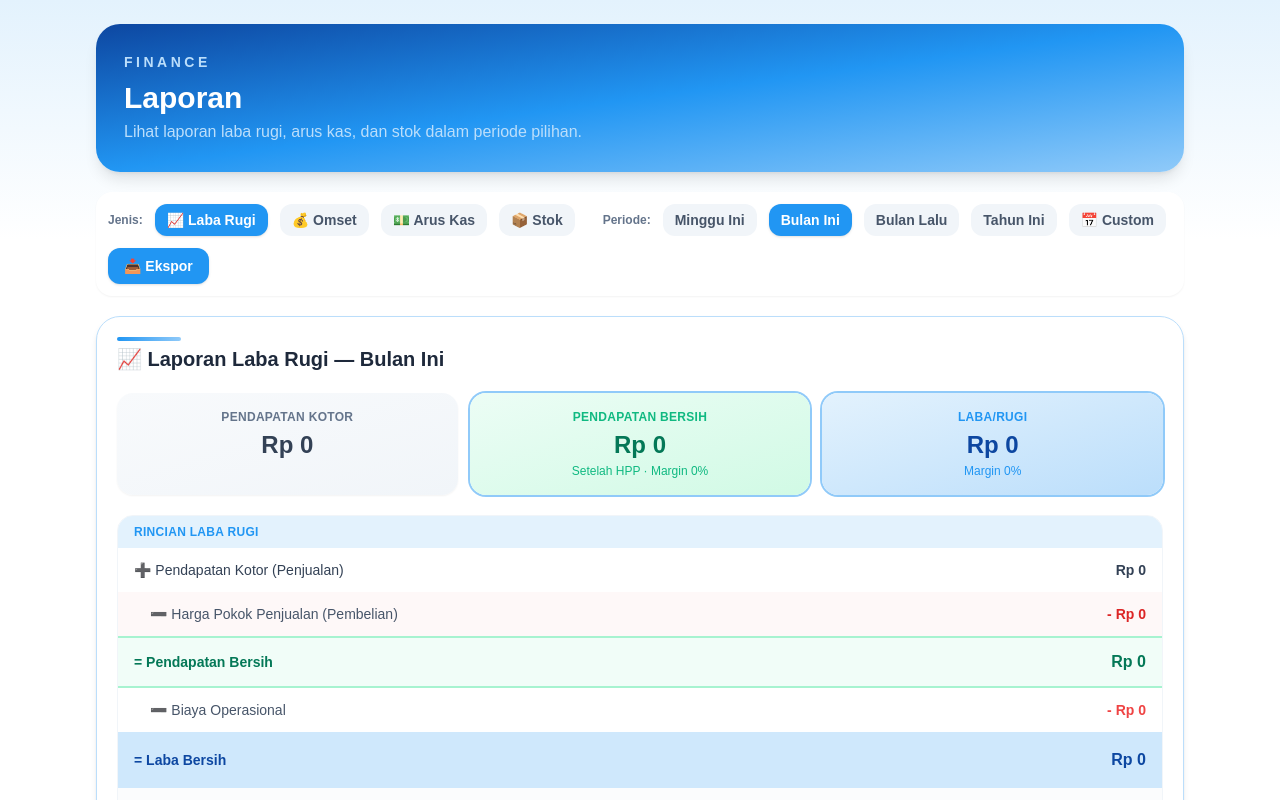
LaporanPage › switches to Arus Kas
Click the button "💵 Arus Kas". click: {"x": 434, "y": 220}
box: [381,204,487,236]
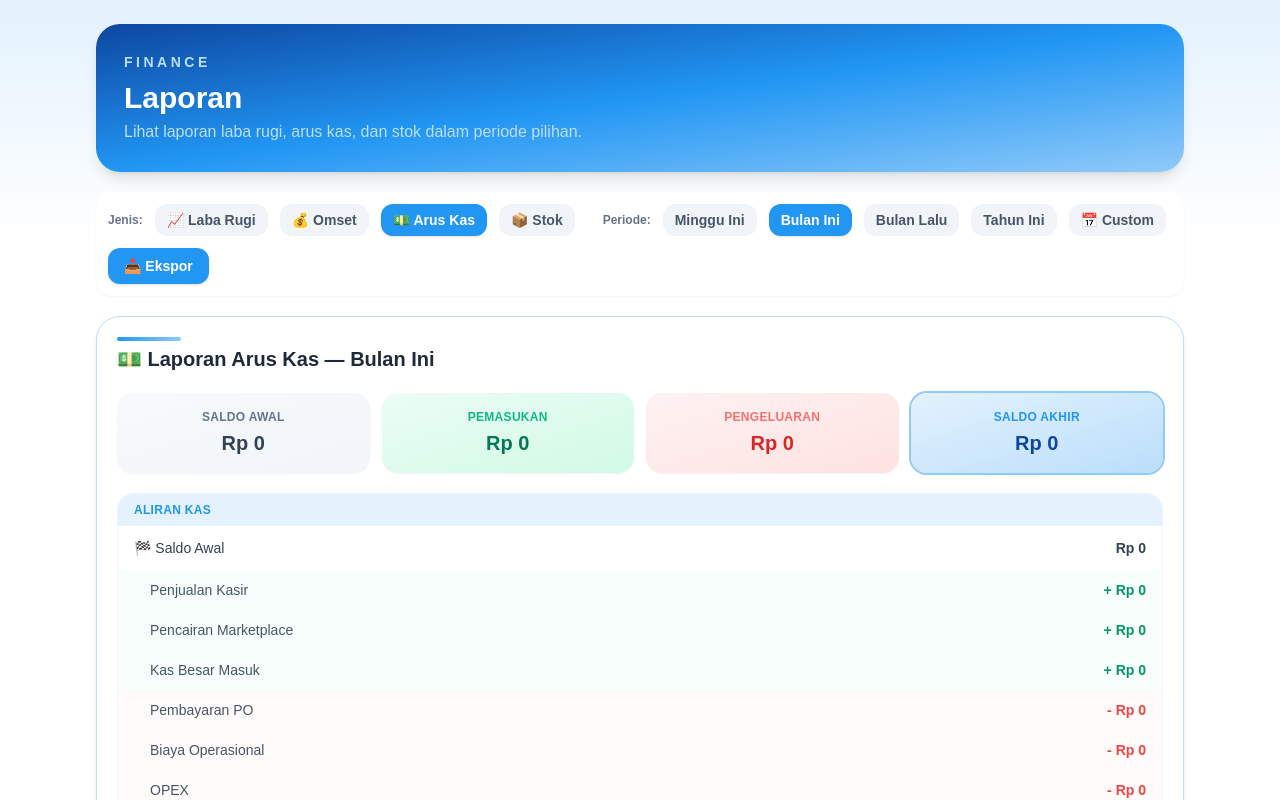
Now the text "Saldo Awal" is shown, box [202,410,285,424]
Now the text "Saldo Akhir" is shown, box [994,410,1080,424]
